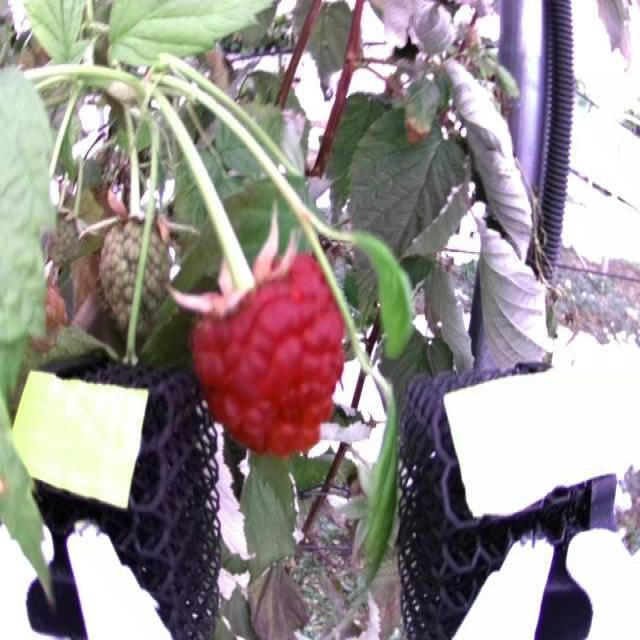Riped berries: (186, 249, 347, 459)
